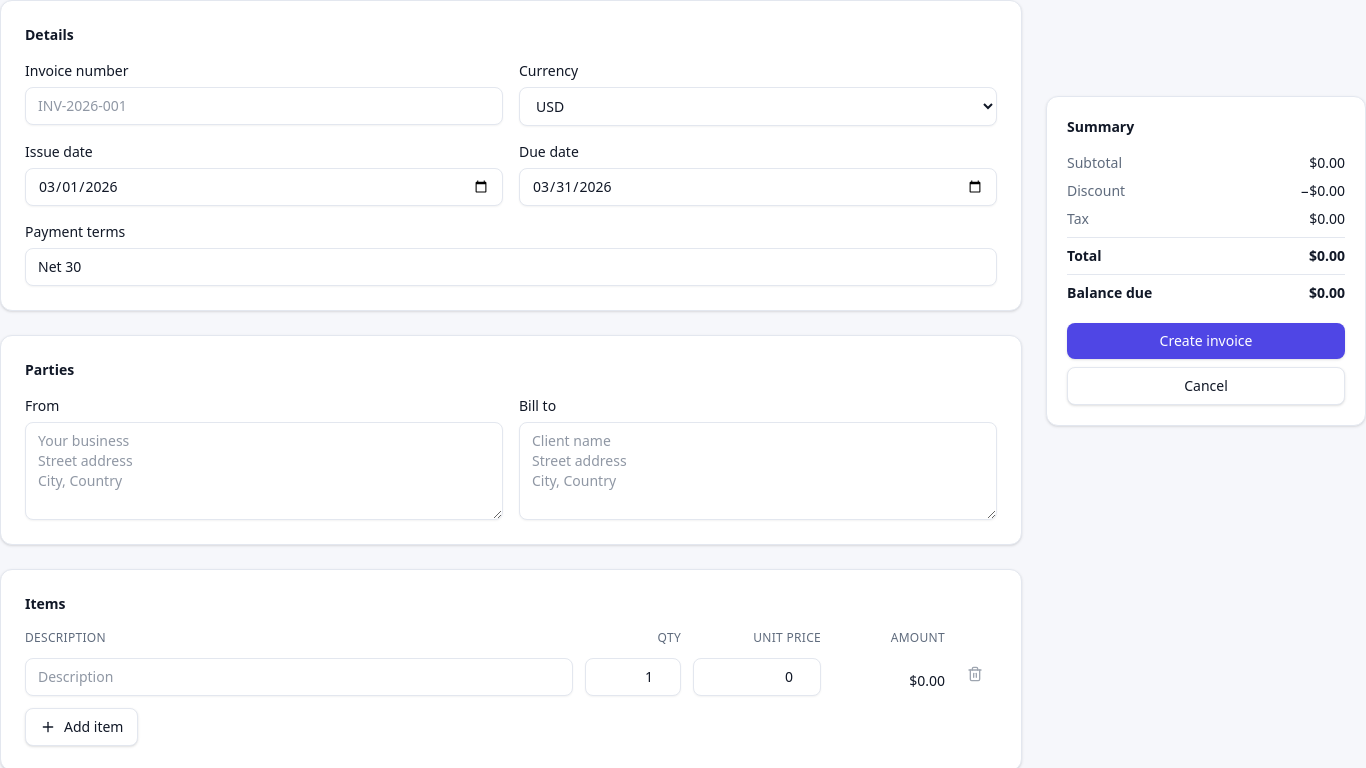
Test: InvoiceForm › updates line amounts and totals as the user types
Replace the text in the number field named "Item 1 quantity" with "2" at (633, 677), box [585, 658, 681, 696]
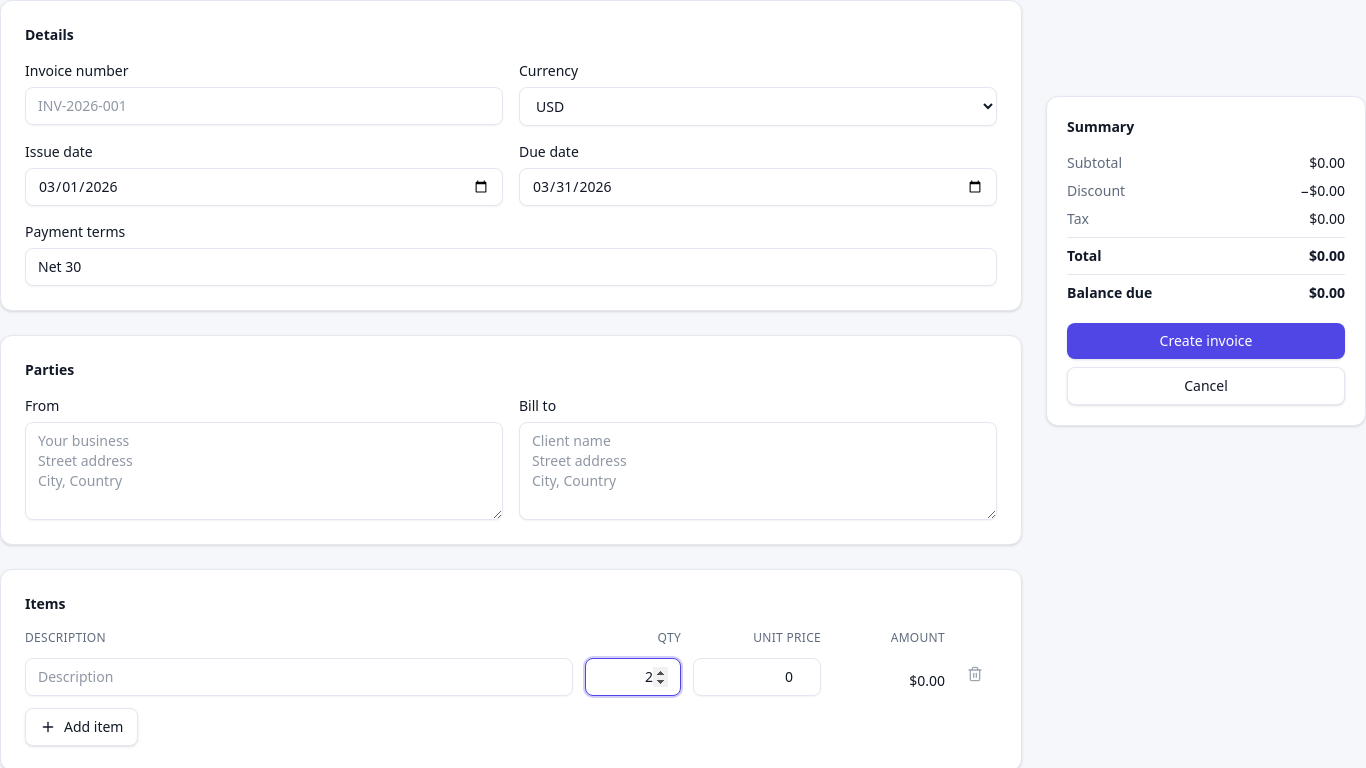
Replace the text in the number field named "Item 1 unit price" with "150.50" at (757, 677), box [693, 658, 821, 696]
(page scrolled)
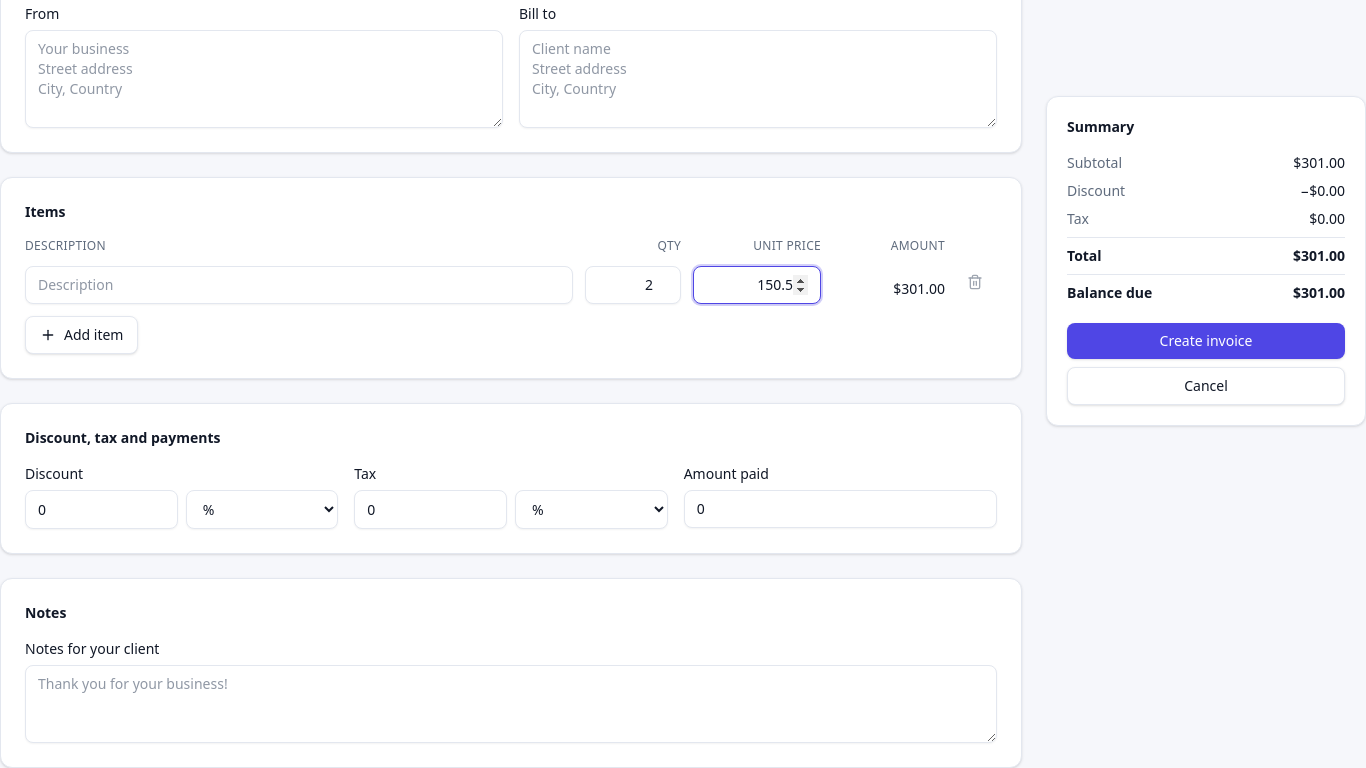
Replace the text in the number field labelled "Tax" with "20" at (431, 510), box [354, 490, 507, 529]
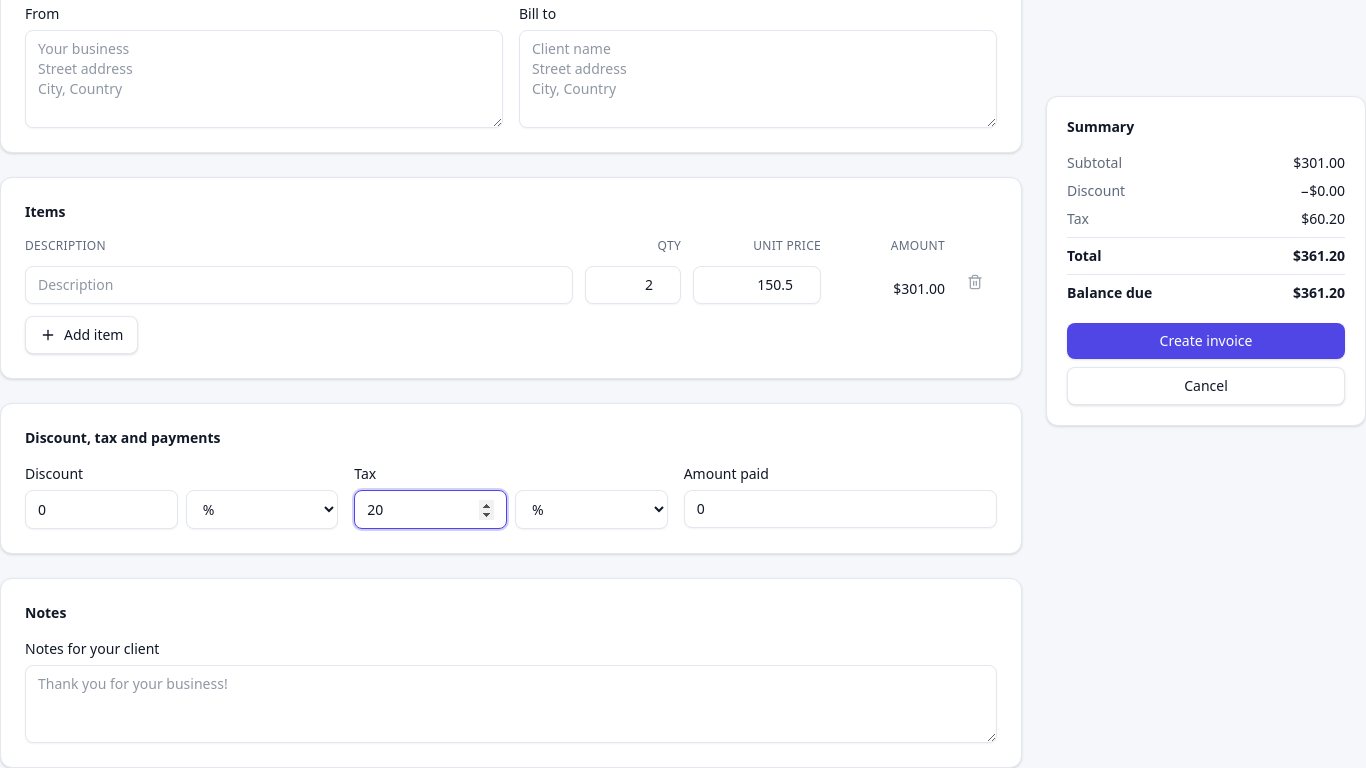
Expected: the text "$361.20" is shown 2 times, [1293, 246, 1345, 266]; [1293, 283, 1345, 303]
Now the text named "Item 1 amount" reads "$301.00", box [893, 279, 945, 298]
Now the text "$60.20" is shown, box [1301, 209, 1345, 229]
